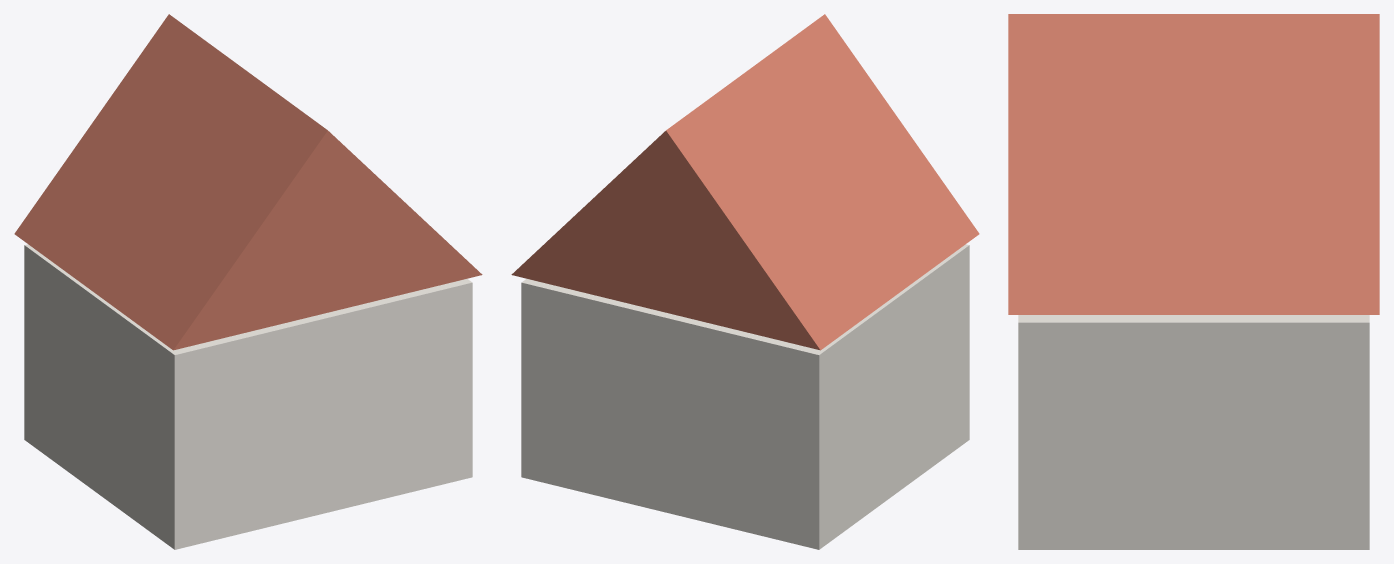
The model's file is medieval_houses.glb.
3 views of the same model, side by side, from view 1: azimuth 30°, elevation 25°; view 2: azimuth 150°, elevation 25°; view 3: azimuth 270°, elevation 25° (orthographic). The views are drawn at different scales.
Parts seen in each view (by area): view 1: Cube, Cylinder; view 2: Cube, Cylinder; view 3: Cylinder, Cube.
Boxes of the visible parts, x1,y1,x2,y2 form: Cube: (24, 244, 472, 549); Cylinder: (14, 14, 482, 350); Cube: (521, 244, 969, 549); Cylinder: (511, 14, 979, 350); Cylinder: (1008, 14, 1379, 314); Cube: (1018, 315, 1369, 549).
Bounding box in the file's own units: 8.31 × 9.92 × 7.4.
